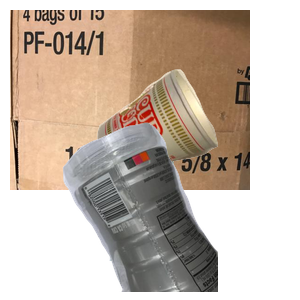cardboard: (10, 10, 250, 190)
glass: (107, 120, 278, 300)
plastic: (60, 120, 300, 300)
trash: (95, 67, 300, 238)
